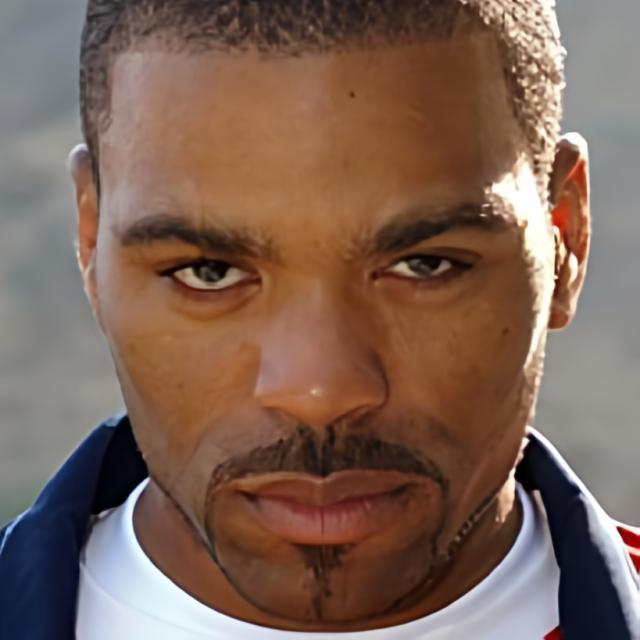anger: (113, 30, 533, 602)
